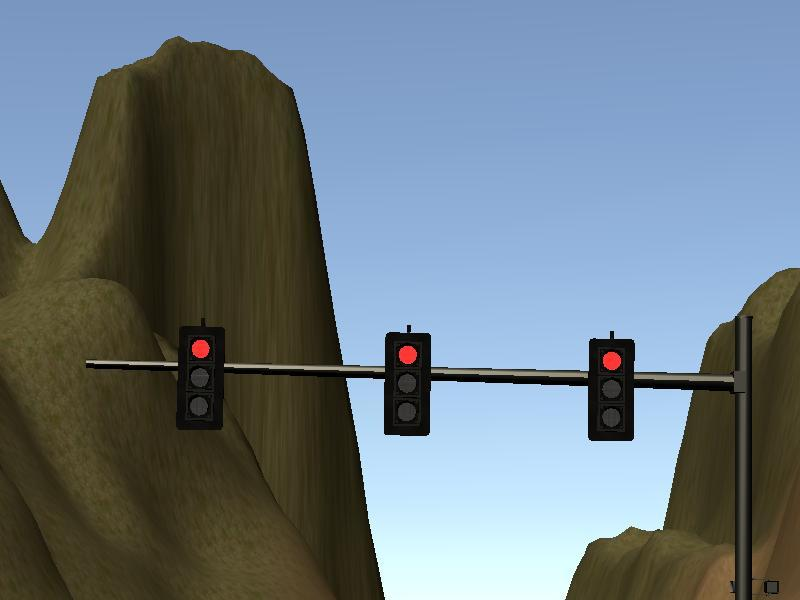Red: (384, 334, 430, 436), (588, 339, 634, 441), (176, 326, 222, 428)
